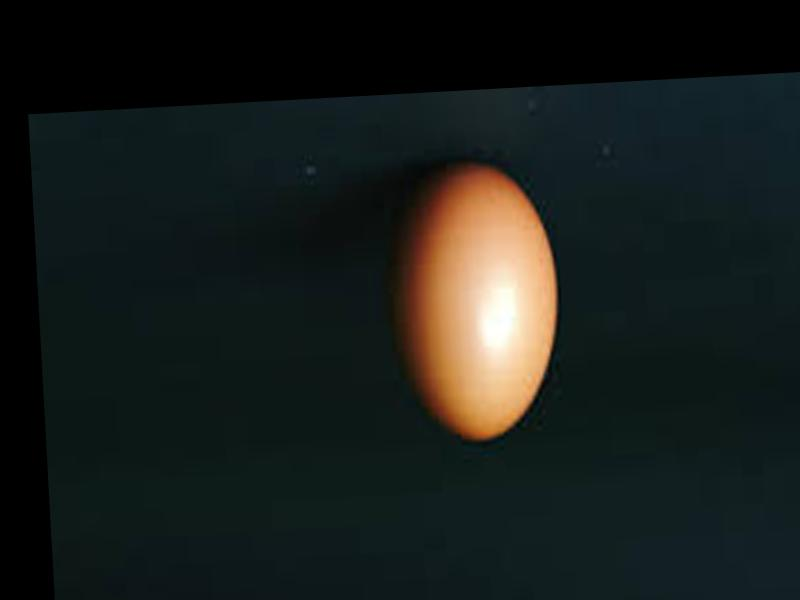Eggs: (386, 156, 562, 443)
